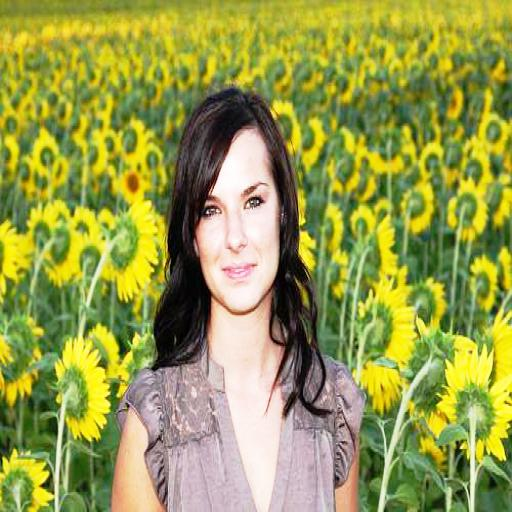sunflower: (436, 347, 512, 463), (356, 277, 411, 401), (58, 337, 106, 441), (112, 203, 156, 297), (1, 452, 53, 512), (43, 212, 82, 285), (450, 183, 486, 240), (471, 252, 500, 311), (28, 131, 62, 178), (400, 185, 434, 232), (271, 102, 304, 150), (119, 118, 146, 163), (333, 149, 362, 189), (119, 168, 147, 204), (494, 180, 511, 226), (325, 208, 343, 249)
